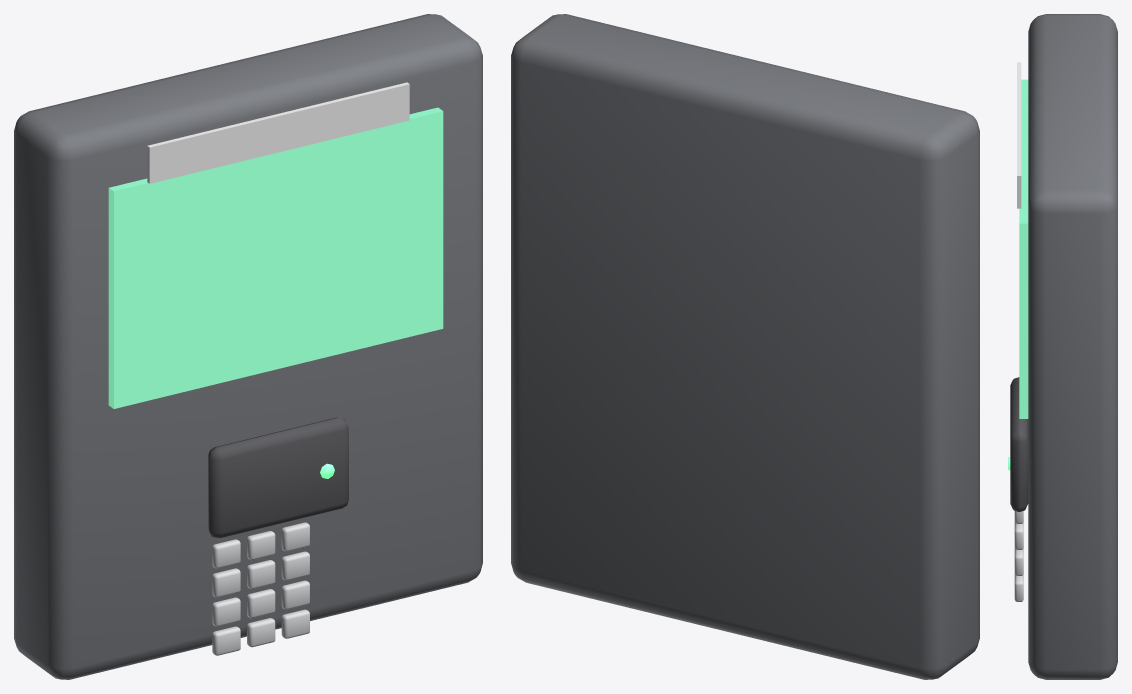
File: terminal.glb
The picture shows the model from 3 angles, left to right: view 1: azimuth 30°, elevation 25°; view 2: azimuth 150°, elevation 25°; view 3: azimuth 270°, elevation 25°; orthographic projection. The views are drawn at different scales.
Visible parts, largest first — view 1: Cube, Cube.001, Cube.002, Cube.015, Cube.005, Cube.006, Cube.003, Cube.004, Cube.011, Cube.012, Cube.013, Cube.010 (+4 smaller); view 2: Cube; view 3: Cube, Cube.001, Cube.002, Cube.015, Cube.012, Cube.013, Cube.014.
Boxes of the visible parts, x1,y1,x2,y2 form: Cube: (14, 14, 482, 679); Cube.001: (108, 107, 443, 408); Cube.002: (208, 417, 348, 537); Cube.015: (147, 82, 409, 183); Cube.005: (212, 597, 240, 626); Cube.006: (212, 626, 240, 655); Cube.003: (212, 539, 240, 568); Cube.004: (212, 568, 240, 597); Cube.011: (281, 522, 309, 551); Cube.012: (281, 551, 309, 580); Cube.013: (281, 580, 309, 609); Cube.010: (247, 618, 275, 647); Cube: (511, 14, 979, 679); Cube: (1028, 14, 1117, 679); Cube.001: (1019, 79, 1028, 418); Cube.002: (1010, 377, 1028, 511); Cube.015: (1017, 62, 1021, 208); Cube.012: (1014, 522, 1023, 549); Cube.013: (1014, 548, 1023, 575); Cube.014: (1014, 574, 1023, 601).
Size of the model in its own units: 0.5 by 0.6 by 0.1225.
